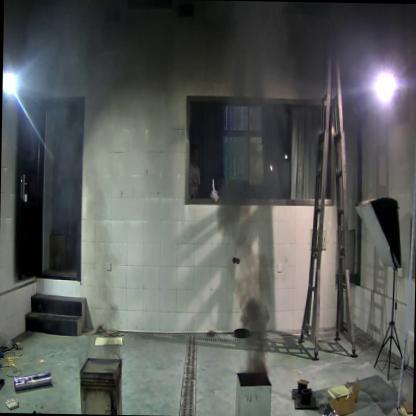smoke: (215, 180, 273, 373)
